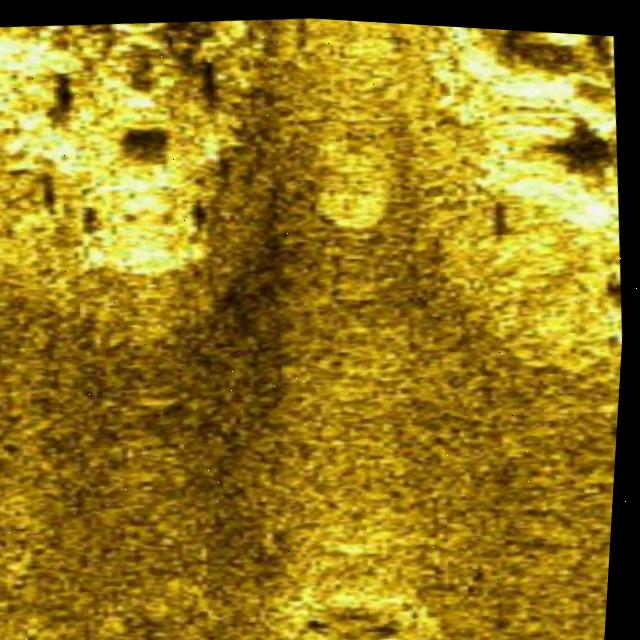bedrock group: (398, 19, 640, 383), (0, 4, 283, 292)
